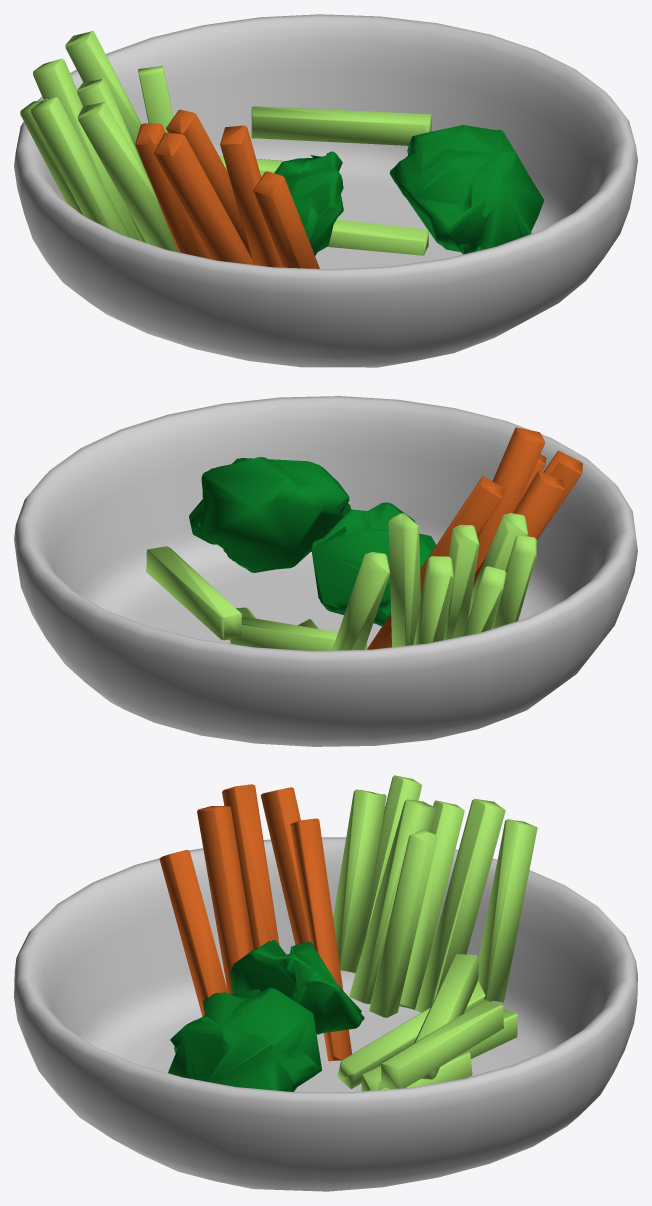
The model's file is tazonVegetales.fbx.
3 renders of one model, top to bottom at view 1: azimuth 30°, elevation 25°; view 2: azimuth 150°, elevation 25°; view 3: azimuth 270°, elevation 25°, orthographic.
Visible parts, largest first — view 1: tazonVegetales; view 2: tazonVegetales; view 3: tazonVegetales.
Part boxes in pixels (x1,y1,x2,y2): tazonVegetales: [14, 14, 637, 367]; tazonVegetales: [14, 396, 637, 746]; tazonVegetales: [14, 775, 637, 1191].
Bounding box in the file's own units: 34.29 × 14.26 × 34.29.
